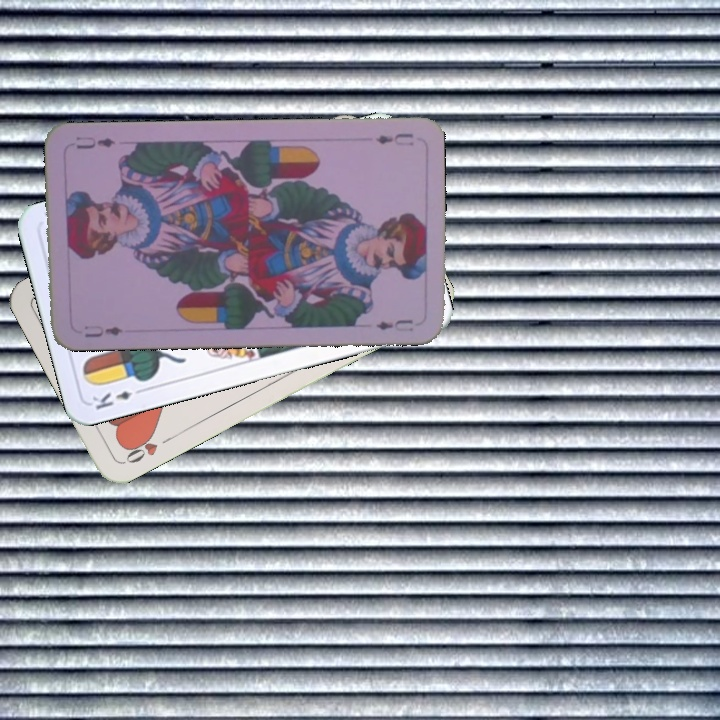EK: (88, 384, 147, 412)
EU: (80, 321, 131, 340), (372, 129, 416, 149)
HO: (120, 429, 175, 466)
